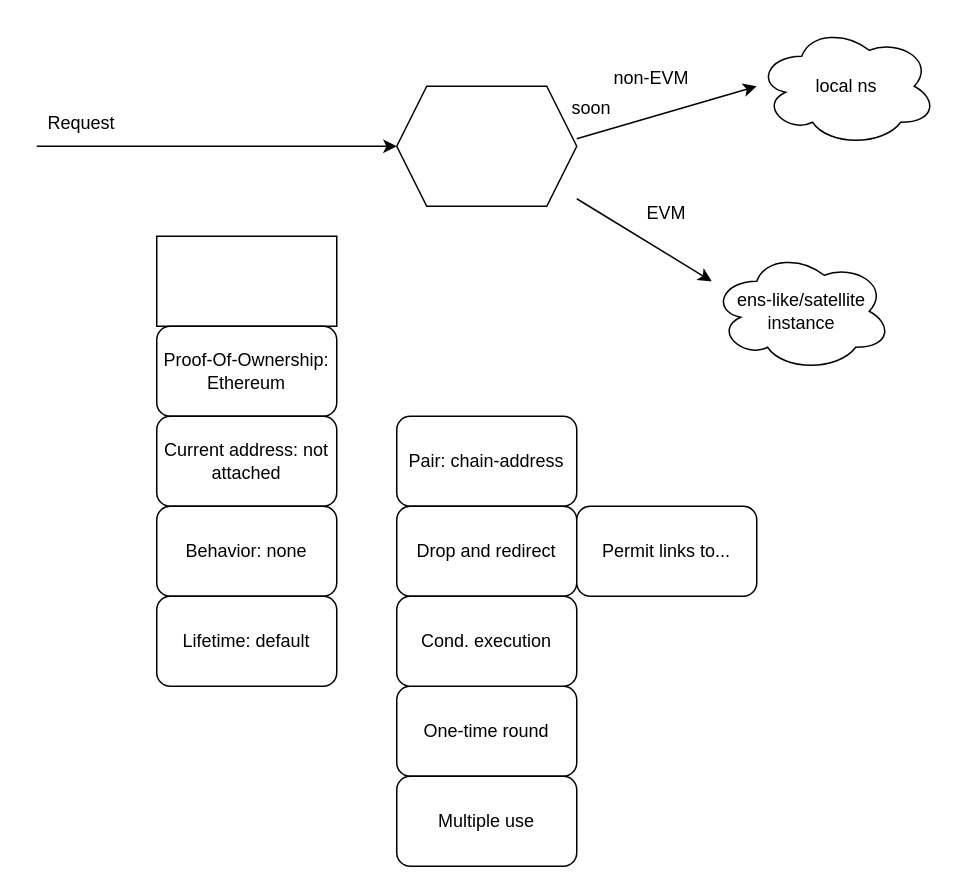
This 963x893 diagram has some shape labels left out. Here are the shapes that lost their labels. From the top down, the centre of each, then its label:
pixel 486 145: Attempt to register: ns-less net
pixel 246 280: some.eth
